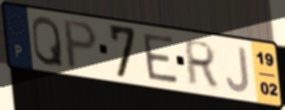7: (107, 22, 139, 80)
E: (141, 32, 181, 86)
J: (224, 46, 252, 95)
P: (62, 18, 100, 72)
Q: (30, 14, 66, 69)
R: (184, 38, 219, 90)
